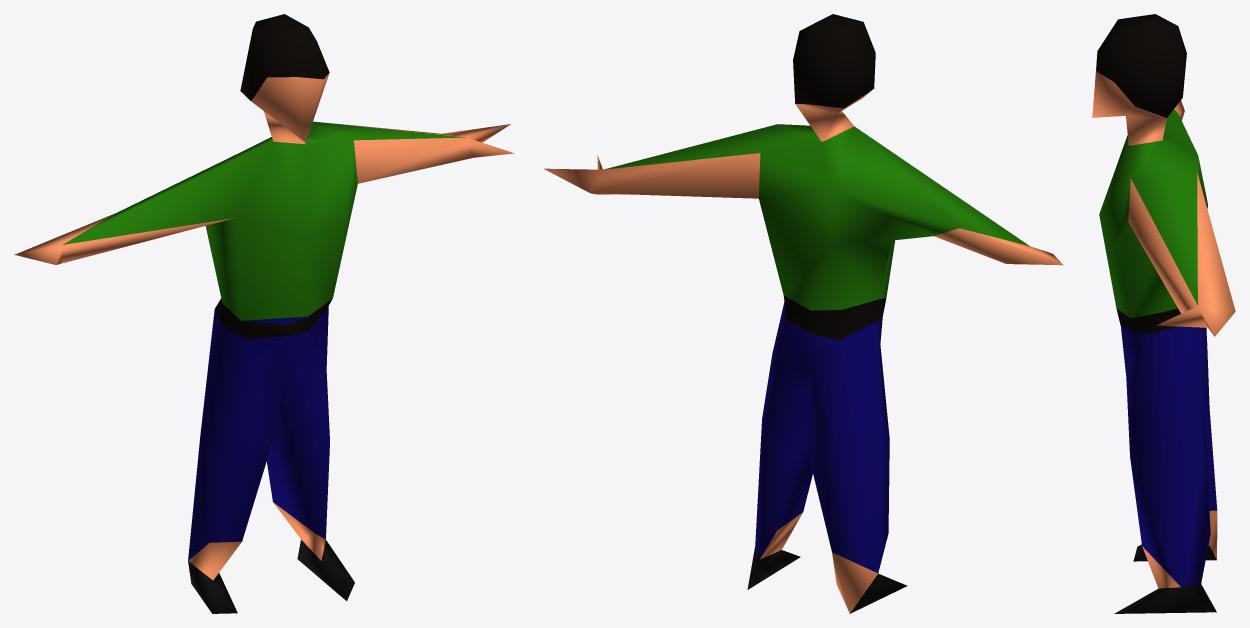
File: character.obj
3 views of the same model, side by side, from view 1: azimuth 30°, elevation 25°; view 2: azimuth 150°, elevation 25°; view 3: azimuth 270°, elevation 25° (orthographic). The views are drawn at different scales.
Visible parts, largest first — view 1: Cube.001; view 2: Cube.001; view 3: Cube.001.
Part boxes in pixels (x1,y1,x2,y2): Cube.001: (14, 14, 514, 613); Cube.001: (544, 14, 1063, 613); Cube.001: (1092, 14, 1235, 613).
Size of the model in its own units: 0.9245 by 0.9906 by 0.2255.
